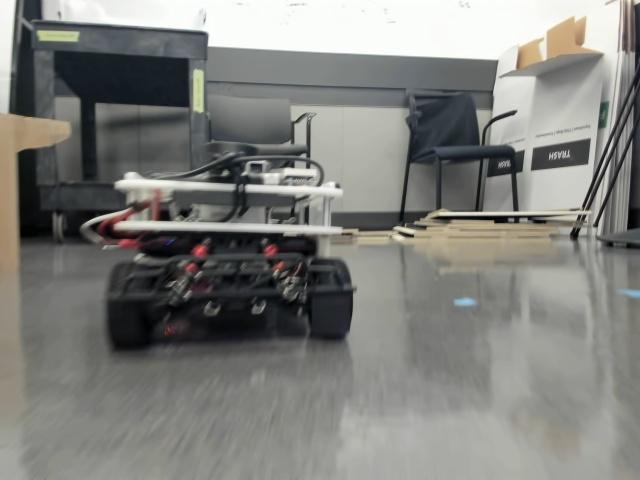Car: (104, 139, 353, 343)
